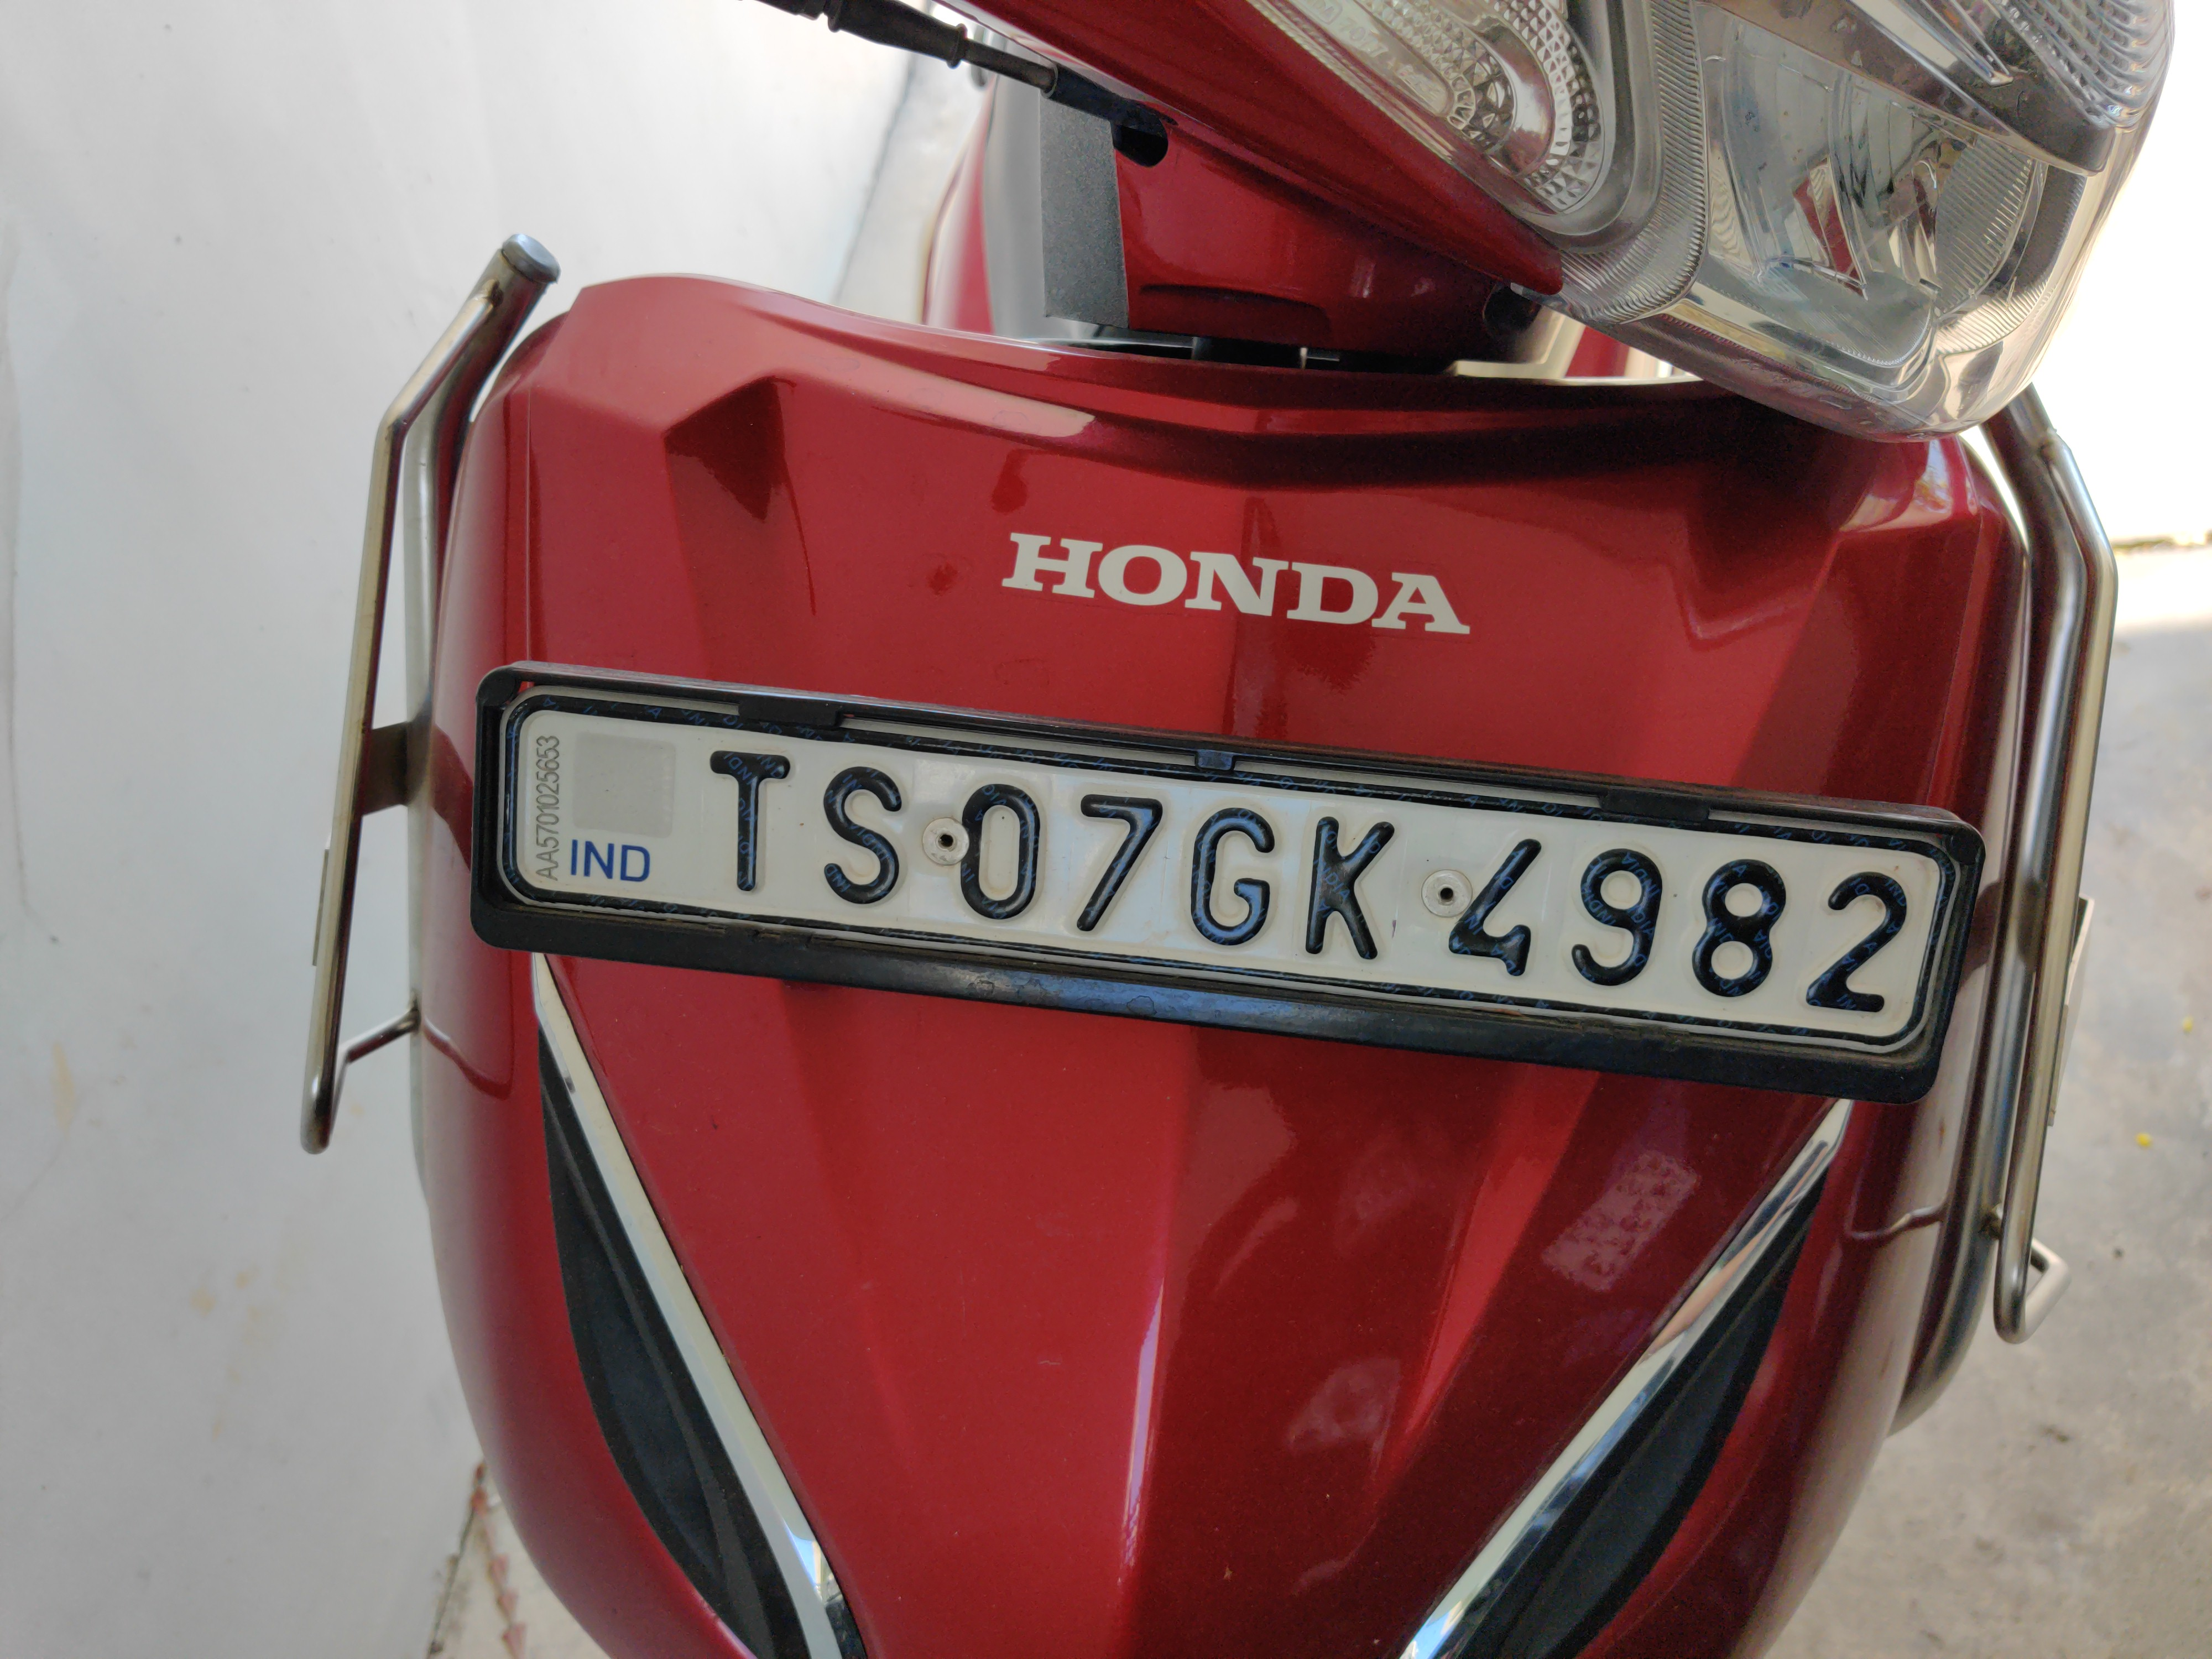plate: (474, 651, 1963, 1113)
